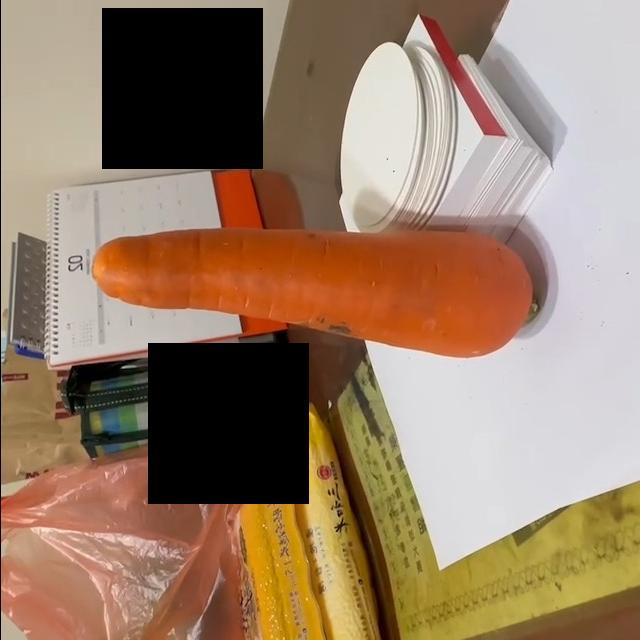carrot: (88, 227, 536, 364)
